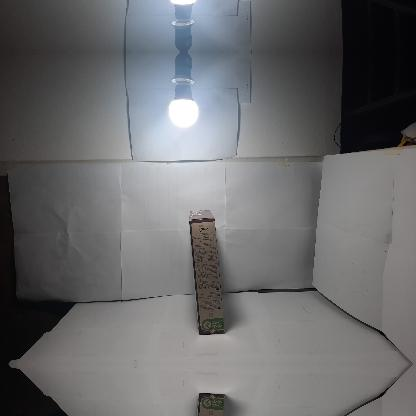Koko-Krunch: (189, 210, 225, 334)
